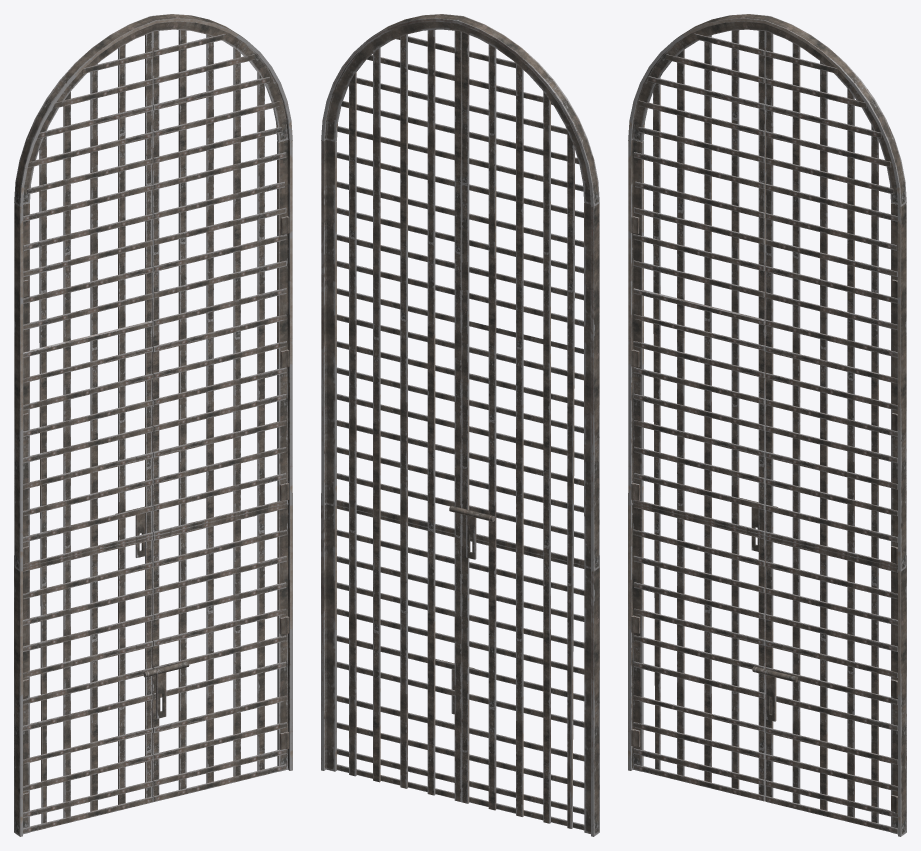
The model's file is SM_MetalGate04.FBX.
3 renders of one model, left to right at view 1: azimuth 30°, elevation 25°; view 2: azimuth 150°, elevation 25°; view 3: azimuth 330°, elevation 25°, orthographic.
Parts seen in each view (by area): view 1: SM_MetalGate04; view 2: SM_MetalGate04; view 3: SM_MetalGate04.
Boxes of the visible parts, bbox=[...] form: SM_MetalGate04: bbox=[14, 14, 292, 836]; SM_MetalGate04: bbox=[321, 14, 599, 836]; SM_MetalGate04: bbox=[628, 14, 906, 836].
Size of the model in its own units: 308 by 13.62 by 846.
